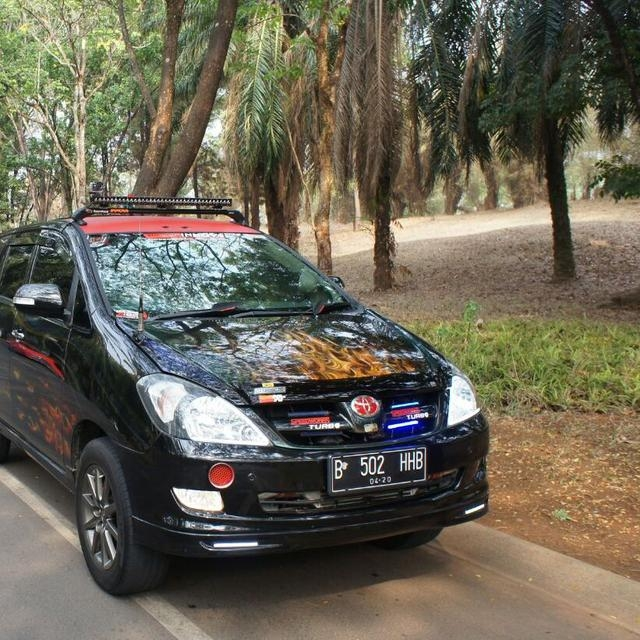plate: (334, 452, 429, 485)
